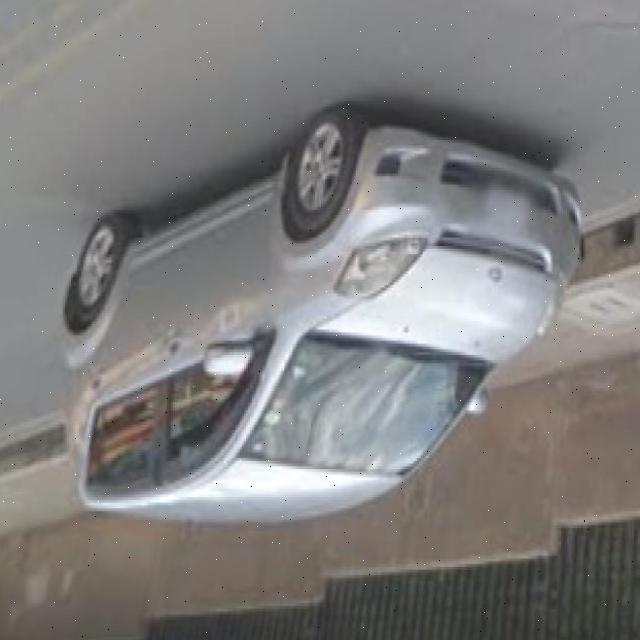car: (63, 106, 556, 510)
